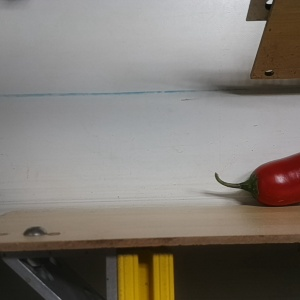Cut Point: (244, 162, 273, 205)
